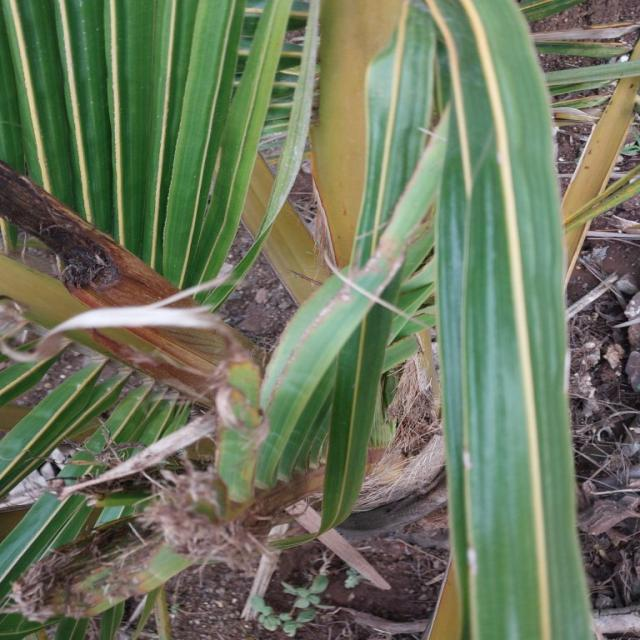bud rot: (0, 164, 178, 309), (93, 323, 252, 401)
